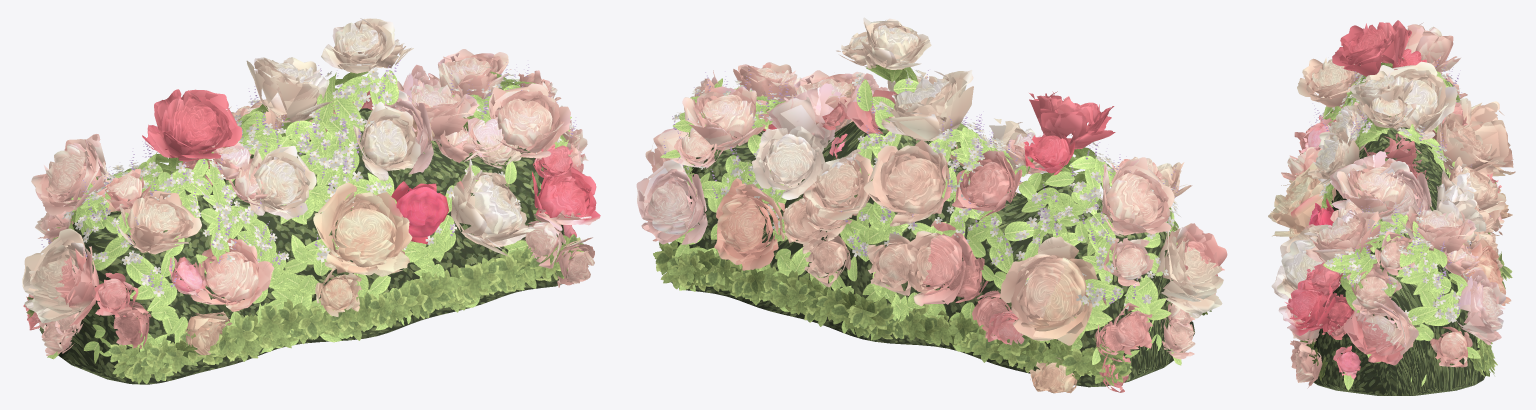
File: FlowerBank_1m_sample_A_1002_v18.glb
3 renders of one model, left to right at view 1: azimuth 30°, elevation 25°; view 2: azimuth 150°, elevation 25°; view 3: azimuth 270°, elevation 25°, orthographic. The views are drawn at different scales.
Visible parts, largest first — view 1: FlowerBank_1m; view 2: FlowerBank_1m; view 3: FlowerBank_1m.
Boxes of the visible parts, x1,y1,x2,y2 form: FlowerBank_1m: [22, 18, 600, 384]; FlowerBank_1m: [636, 17, 1227, 393]; FlowerBank_1m: [1268, 20, 1515, 395].
Bounding box in the file's own units: 1.3 × 0.5898 × 0.5808.
6 materials, 5 textured.
